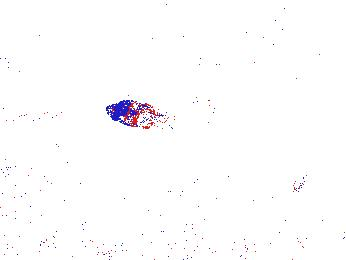X-ray fish: (107, 97, 168, 130), (93, 233, 164, 257)
red belly glassfish: (293, 171, 305, 198)
